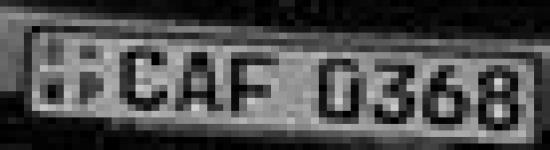0: (310, 52, 366, 130)
3: (369, 51, 420, 132)
6: (422, 58, 473, 130)
8: (473, 63, 528, 133)
A: (175, 44, 225, 116)
C: (112, 42, 174, 117)
F: (222, 47, 288, 122)
P: (71, 65, 113, 110)
W: (37, 65, 75, 109)
